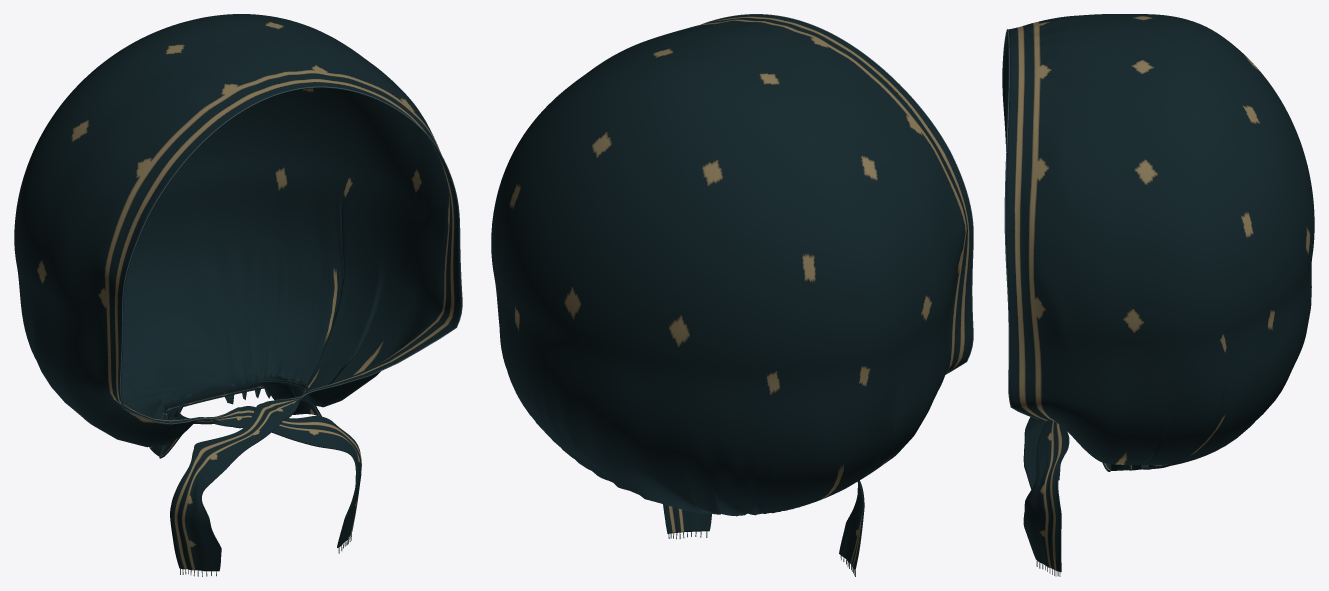
File: Feminine-bob-jersey-pashmina250-headgear.glb
3 views of the same model, side by side, from view 1: azimuth 30°, elevation 25°; view 2: azimuth 150°, elevation 25°; view 3: azimuth 270°, elevation 25° (orthographic). The views are drawn at different scales.
Visible parts, largest first — view 1: 226 headgear / Headwear / continuous woven pashmina239, 226 headgear / Headwear / face edge239; view 2: 226 headgear / Headwear / continuous woven pashmina239, 226 headgear / Headwear / face edge239; view 3: 226 headgear / Headwear / continuous woven pashmina239, 226 headgear / Headwear / face edge239.
Boxes of the visible parts, x1,y1,x2,y2 form: 226 headgear / Headwear / continuous woven pashmina239: [14, 14, 461, 571]; 226 headgear / Headwear / face edge239: [119, 86, 462, 424]; 226 headgear / Headwear / continuous woven pashmina239: [491, 14, 972, 570]; 226 headgear / Headwear / face edge239: [701, 14, 973, 374]; 226 headgear / Headwear / continuous woven pashmina239: [1002, 14, 1314, 572]; 226 headgear / Headwear / face edge239: [1002, 29, 1043, 420].
Bounding box in the file's own units: 1.1 × 1.39 × 0.7846.
3 materials, 1 textured.
